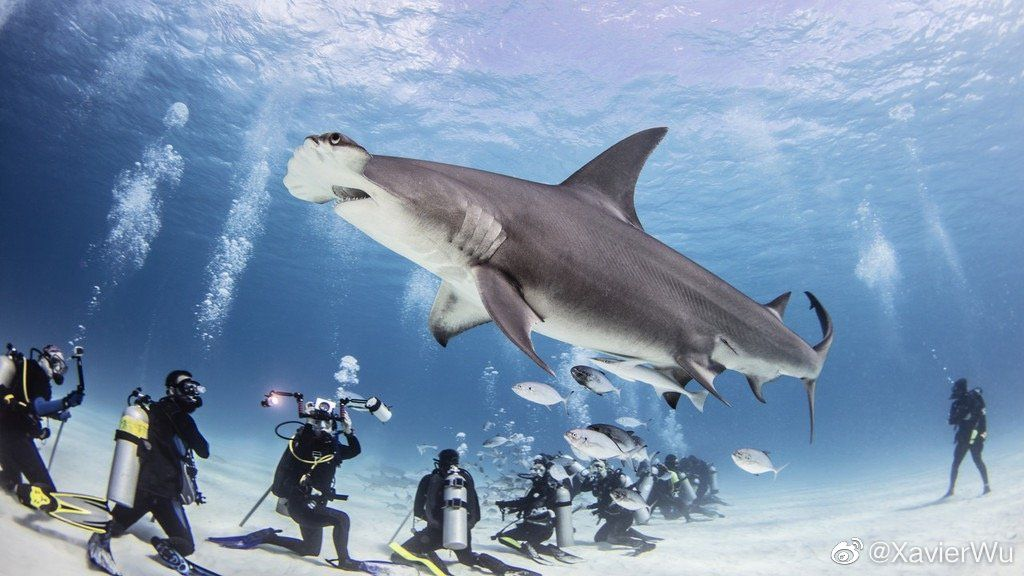shark: (273, 106, 839, 446)
